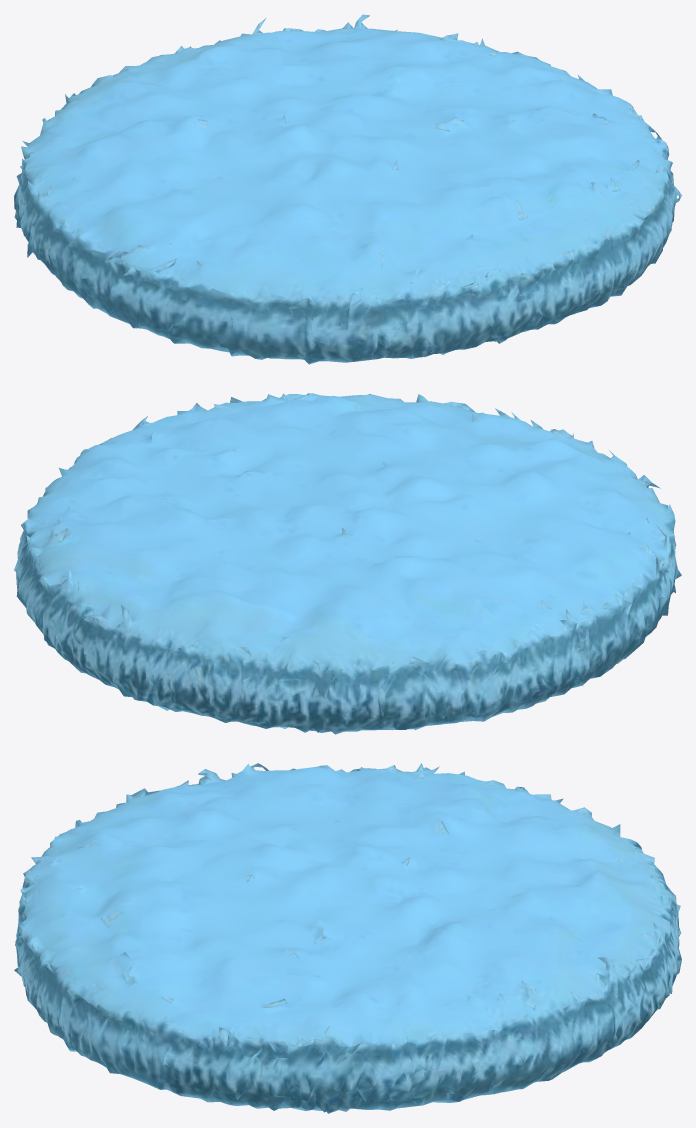
Rendered from Blue_round_rug.glb.
3 renders of one model, top to bottom at view 1: azimuth 30°, elevation 25°; view 2: azimuth 150°, elevation 25°; view 3: azimuth 270°, elevation 25°, orthographic. The views are drawn at different scales.
Visible parts, largest first — view 1: Mesh_0; view 2: Mesh_0; view 3: Mesh_0.
Boxes of the visible parts, bbox=[...] form: Mesh_0: bbox=[14, 14, 681, 364]; Mesh_0: bbox=[14, 393, 681, 734]; Mesh_0: bbox=[14, 763, 681, 1113].
Bounding box in the file's own units: 1.91 × 0.377 × 1.88.
Materials: 1 (1 with a texture image).
